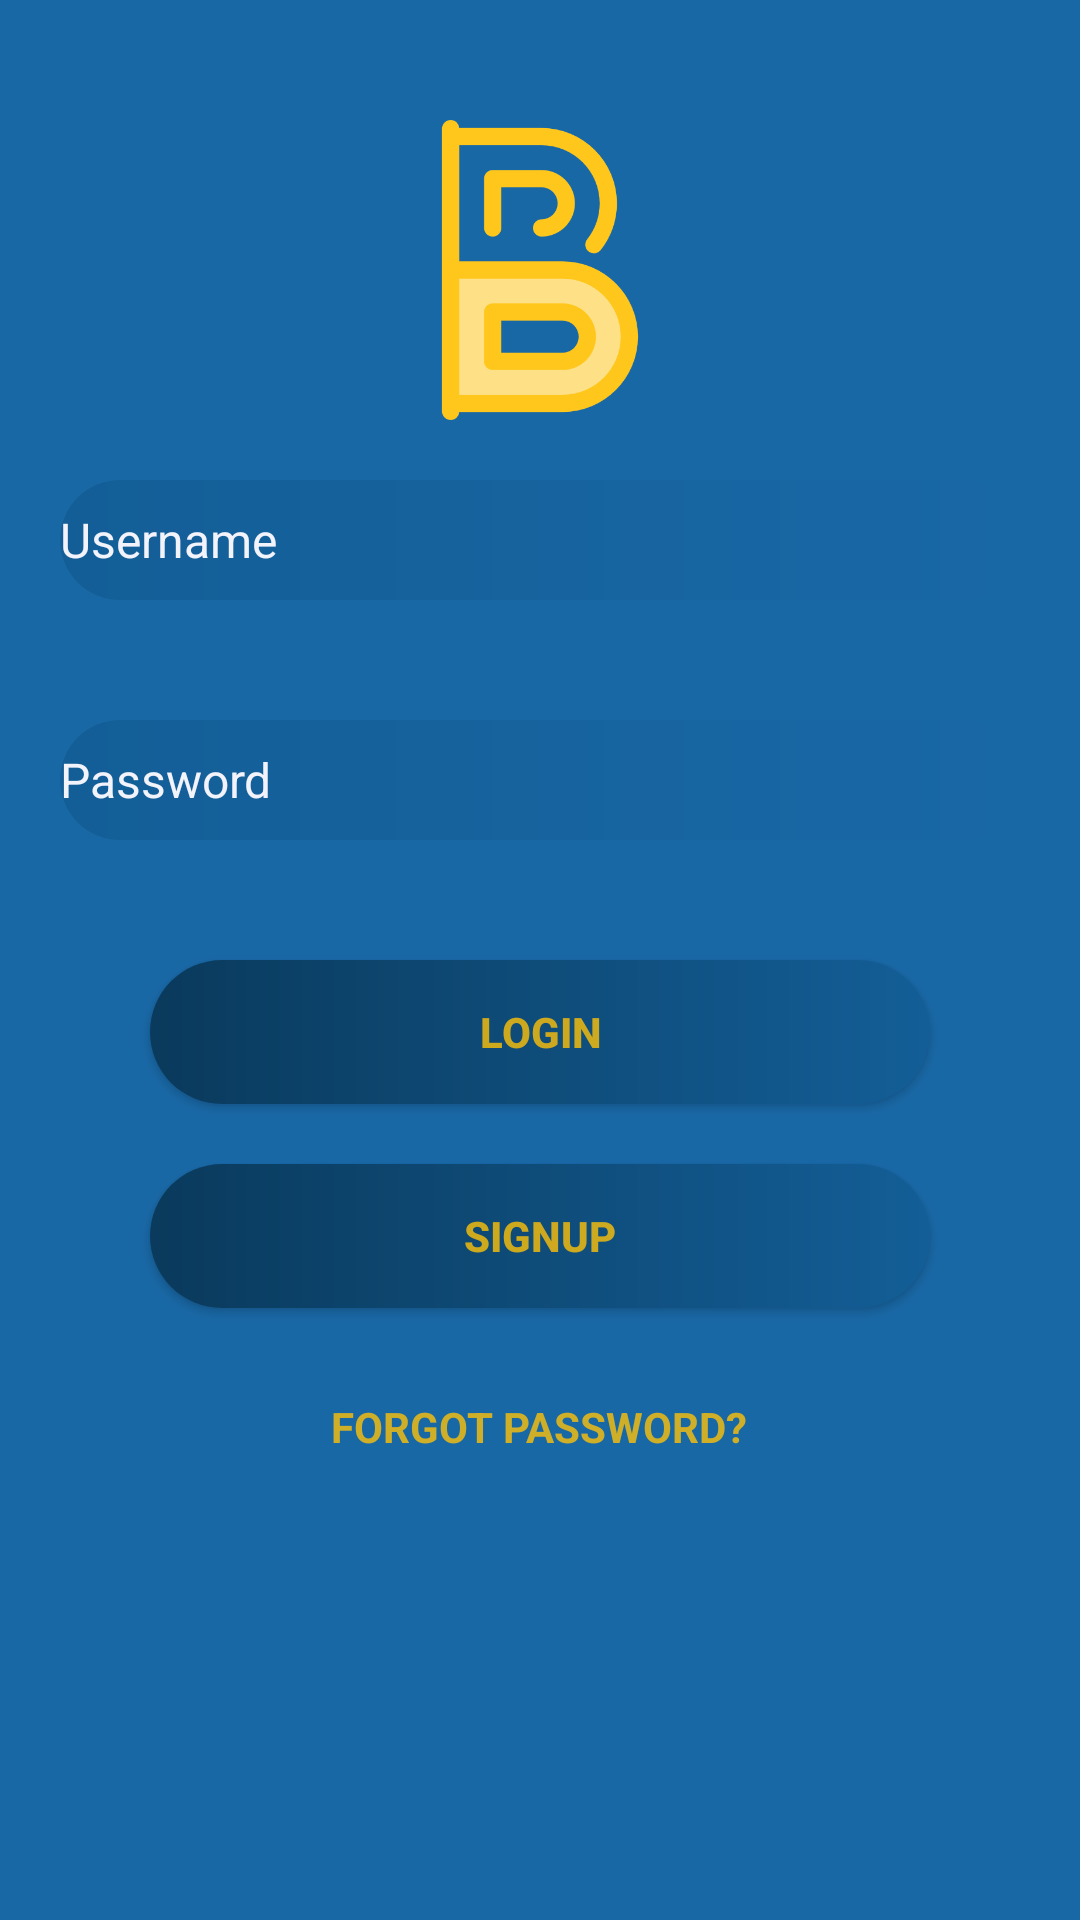

Named icons in this screenshot (1080*1920) and their bounding boxes, region(x1, y1, x2, y2):
letterb: region(442, 120, 638, 420)
